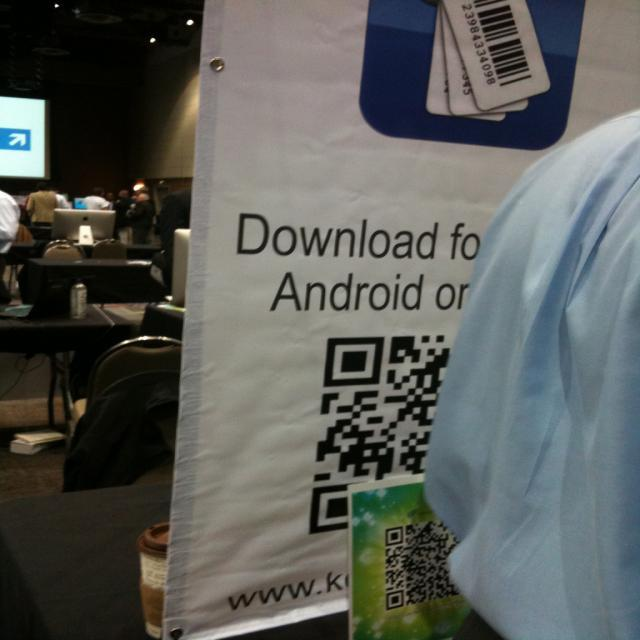qrcode: (309, 335, 457, 535), (385, 520, 462, 611)
